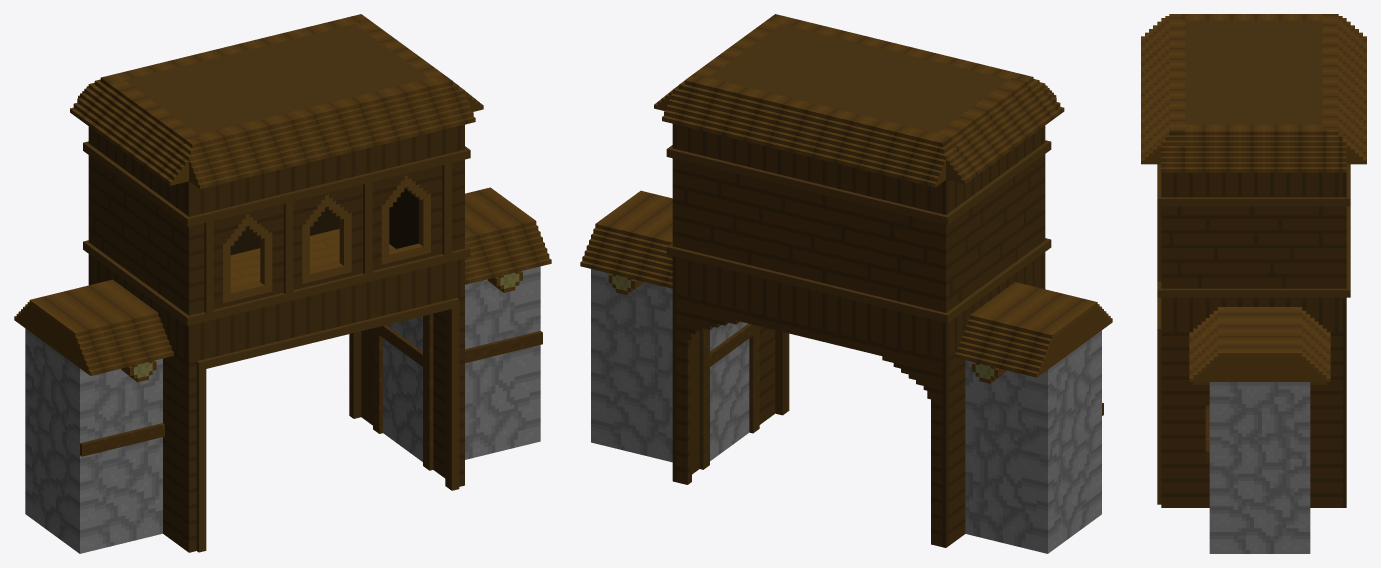
File: CityWall-2.obj
3 renders of one model, left to right at view 1: azimuth 30°, elevation 25°; view 2: azimuth 150°, elevation 25°; view 3: azimuth 270°, elevation 25°, orthographic. The views are drawn at different scales.
Size of the model in its own units: 12.2 by 10.2 by 5.6.
Materials: 1 (1 with a texture image).
